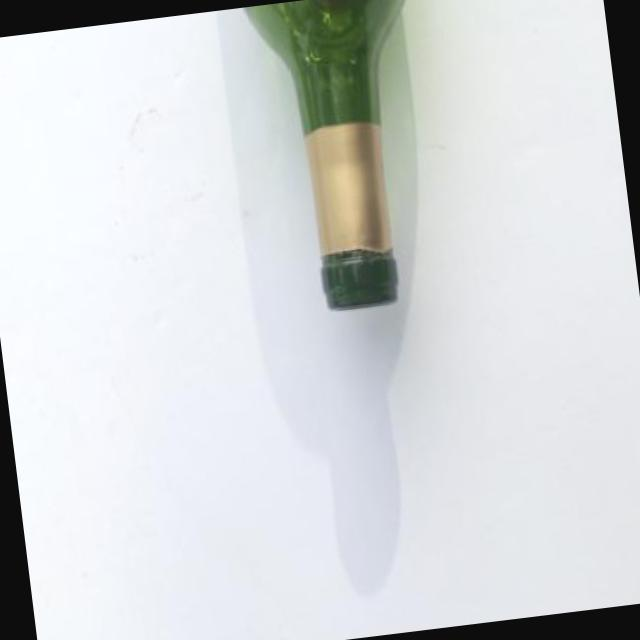chai_thuy_tinh: (245, 0, 402, 309)
